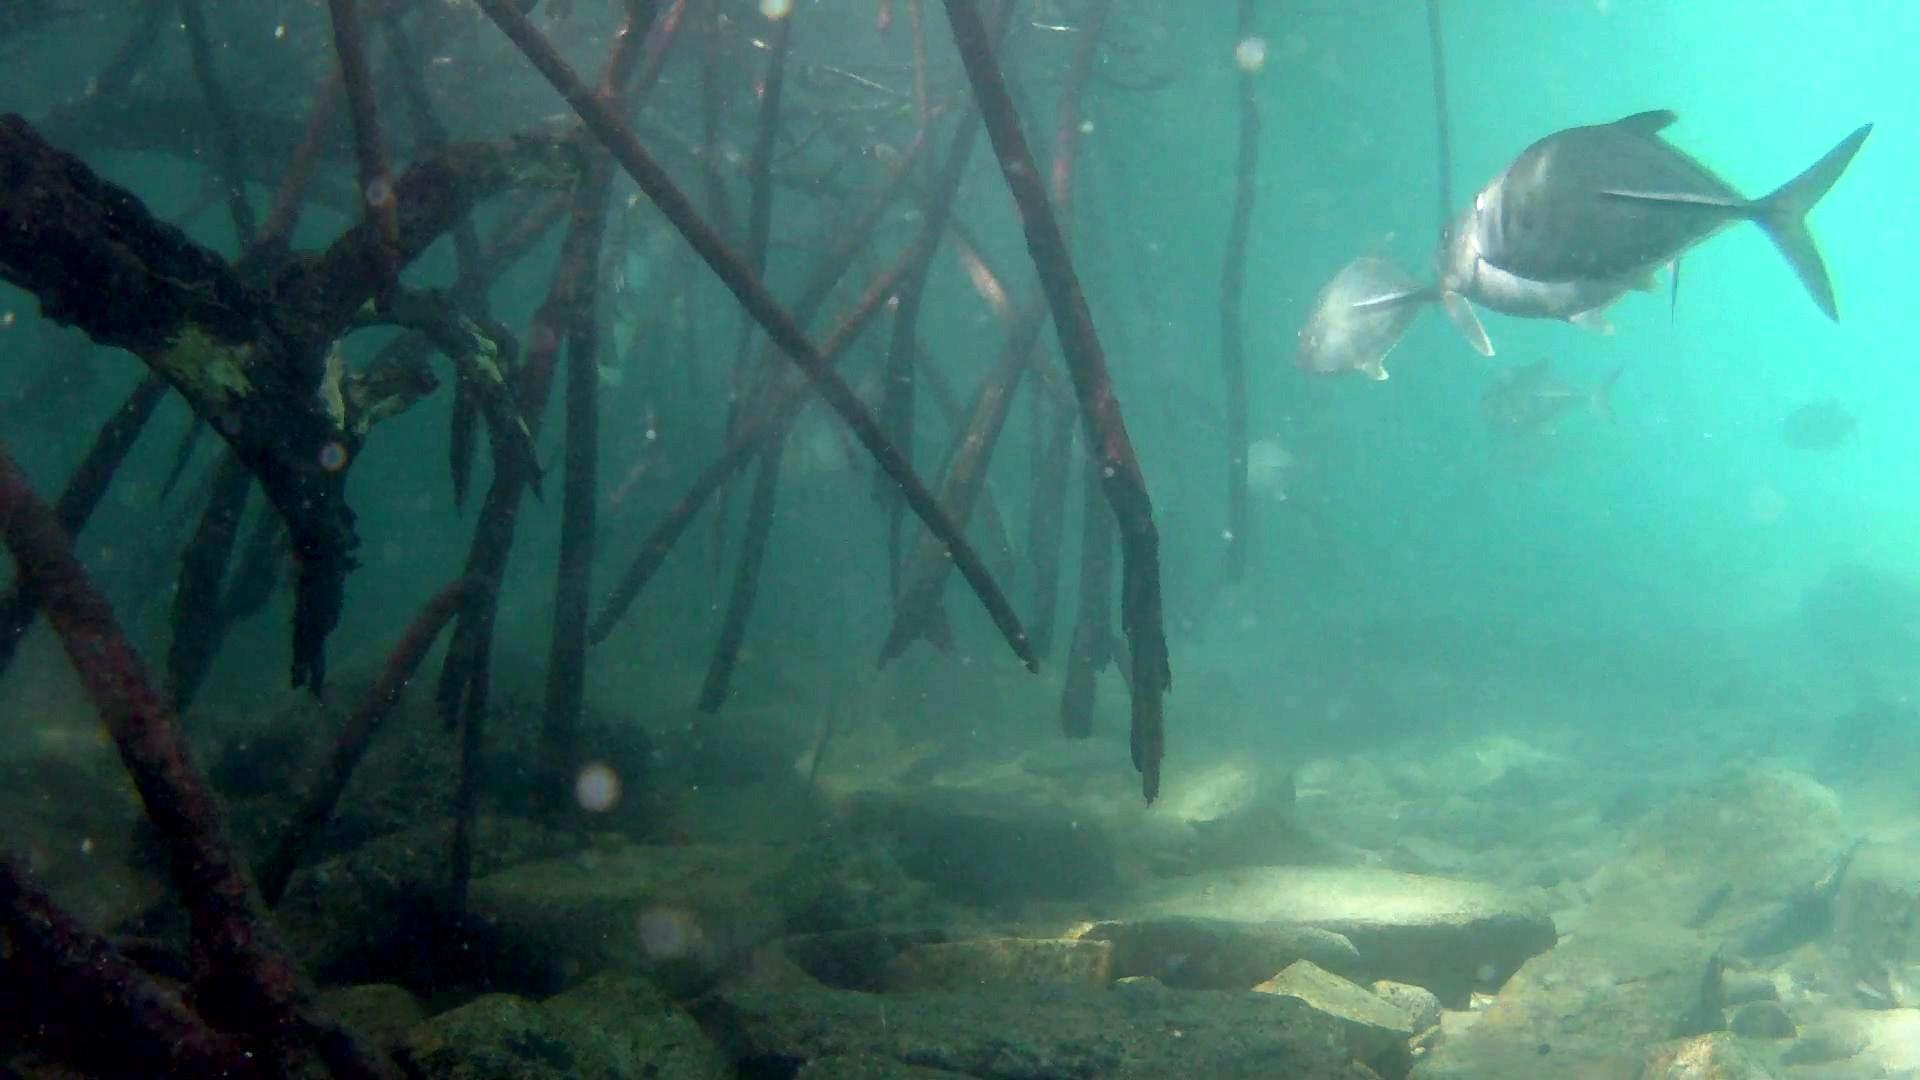caranx: (1461, 105, 1886, 338), (1290, 243, 1503, 404)
